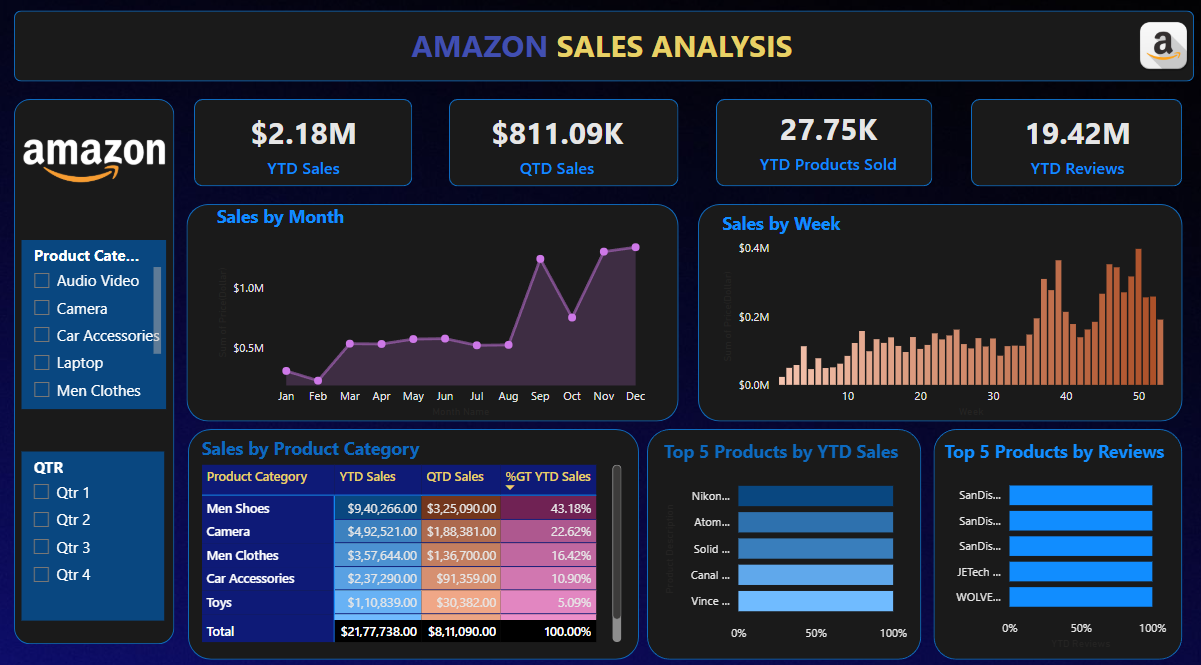

What the dashboard file says about the page in this screenshot:
{"tool":"powerbi","page":{"name":"Page 1","canvas":[1280,720],"ordinal":0},"visuals":[{"type":"shape","box":[206,111.5,231.6,92.6],"z":0,"group":"g1"},{"type":"shape","box":[15.1,17,1251,75.6],"z":0},{"type":"shape","box":[477.1,111.5,243.2,92.6],"z":1000,"group":"g1"},{"type":"textbox","box":[226.8,26.5,823.9,54.8],"z":1000},{"type":"shape","box":[760,111.5,229.6,92.6],"z":2000,"group":"g1"},{"type":"shape","box":[15.1,111.5,170.1,578.3],"z":2000},{"type":"shape","box":[1029.1,111.5,223.8,92.6],"z":3000,"group":"g1"},{"type":"shape","box":[198.8,222.7,521.7,230.6],"z":3000},{"type":"card","fields":{"Values":["Amazon_Data.YTD Sales"]},"box":[221.6,119.1,200.4,79.4],"z":4000,"group":"g1"},{"type":"group","id":"g1","title":"Group 1","box":[206,111.5,1046.9,92.6],"z":4000},{"type":"card","fields":{"Values":["Amazon_Data.QTD Sales"]},"box":[490.1,119.1,200.4,79.4],"z":5000,"group":"g1"},{"type":"areaChart","title":"Sales by Month","fields":{"Category":["Date Table.Month Name"],"Y":["Sum(Amazon_Data.Price(Dollar))"]},"box":[225.9,222.7,467.6,230.6],"z":5000},{"type":"card","fields":{"Values":["Amazon_Data.YTD Products Sold"]},"box":[778.1,111.5,200.4,86.9],"z":6000,"group":"g1"},{"type":"shape","box":[741.2,222.7,513.8,230.6],"z":6000},{"type":"card","fields":{"Values":["Amazon_Data.YTD Reviews"]},"box":[1042.8,119.1,200.4,79.4],"z":7000,"group":"g1"},{"type":"columnChart","title":"Sales by Week","fields":{"Category":["Date Table.Week"],"Y":["Sum(Amazon_Data.Price(Dollar))"]},"box":[761.9,230.6,482,222.7],"z":7000},{"type":"shape","box":[200.4,461.3,478.8,245],"z":8000},{"type":"pivotTable","title":"Sales by Product Category","fields":{"Rows":["Amazon_Data.Product Category"],"Values":["Amazon_Data.YTD Sales1","Amazon_Data.QTD Sales","Amazon_Data.YTD Sales"]},"box":[210,469.2,454.9,222.7],"z":9000},{"type":"shape","box":[991,461.3,264,245],"z":10000},{"type":"shape","box":[687.1,461.3,291.1,245],"z":11000},{"type":"hundredPercentStackedBarChart","title":"Top 5 Products by YTD Sales","fields":{"Y":["Amazon_Data.YTD Sales"],"Category":["Amazon_Data.Product Description"]},"box":[699.2,472.4,268.3,223],"z":12000},{"type":"hundredPercentStackedBarChart","title":"Top 5 Products by Reviews","fields":{"Category":["Amazon_Data.Product Description"],"Y":["Amazon_Data.YTD Reviews"]},"box":[997.8,472.4,245.7,226.8],"z":13000},{"type":"slicer","fields":{"Values":["Amazon_Data.Product Category"]},"box":[24.6,260.8,153.1,179.5],"z":14000},{"type":"slicer","fields":{"Values":["Date Table.QTR"]},"box":[24.6,485.7,151.2,179.5],"z":15000},{"type":"image","box":[20.8,102,162.5,158.7],"z":16000},{"type":"image","box":[1201.9,11.3,64.3,86.9],"z":17000}]}

Visuals, with their boxes in screenshot pixels (x1, y1, x2, y2), scaled from the page's 1280x720 canvas onto the 1201x665 screenshot:
shape: x1=193, y1=103, x2=411, y2=189
shape: x1=14, y1=16, x2=1188, y2=86
shape: x1=448, y1=103, x2=676, y2=189
textbox: x1=213, y1=24, x2=986, y2=75
shape: x1=713, y1=103, x2=929, y2=189
shape: x1=14, y1=103, x2=174, y2=637
shape: x1=966, y1=103, x2=1176, y2=189
shape: x1=187, y1=206, x2=676, y2=419
card - Amazon_Data.YTD Sales: x1=208, y1=110, x2=396, y2=183
"Group 1" group: x1=193, y1=103, x2=1176, y2=189
card - Amazon_Data.QTD Sales: x1=460, y1=110, x2=648, y2=183
"Sales by Month" areaChart: x1=212, y1=206, x2=651, y2=419
card - Amazon_Data.YTD Products Sold: x1=730, y1=103, x2=918, y2=183
shape: x1=695, y1=206, x2=1178, y2=419
card - Amazon_Data.YTD Reviews: x1=978, y1=110, x2=1166, y2=183
"Sales by Week" columnChart: x1=715, y1=213, x2=1167, y2=419
shape: x1=188, y1=426, x2=637, y2=652
"Sales by Product Category" pivotTable: x1=197, y1=433, x2=624, y2=639
shape: x1=930, y1=426, x2=1178, y2=652
shape: x1=645, y1=426, x2=918, y2=652
"Top 5 Products by YTD Sales" hundredPercentStackedBarChart: x1=656, y1=436, x2=908, y2=642
"Top 5 Products by Reviews" hundredPercentStackedBarChart: x1=936, y1=436, x2=1167, y2=646
slicer - Amazon_Data.Product Category: x1=23, y1=241, x2=167, y2=407
slicer - Date Table.QTR: x1=23, y1=449, x2=165, y2=614
image: x1=20, y1=94, x2=172, y2=241
image: x1=1128, y1=10, x2=1188, y2=91
